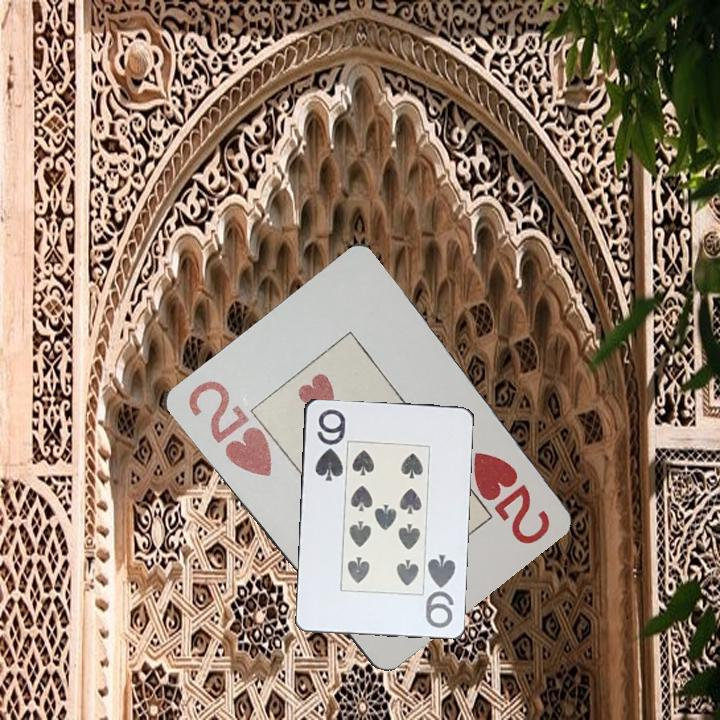2h: (183, 376, 276, 480), (468, 448, 553, 548)
9s: (422, 551, 458, 631), (311, 405, 346, 484)
